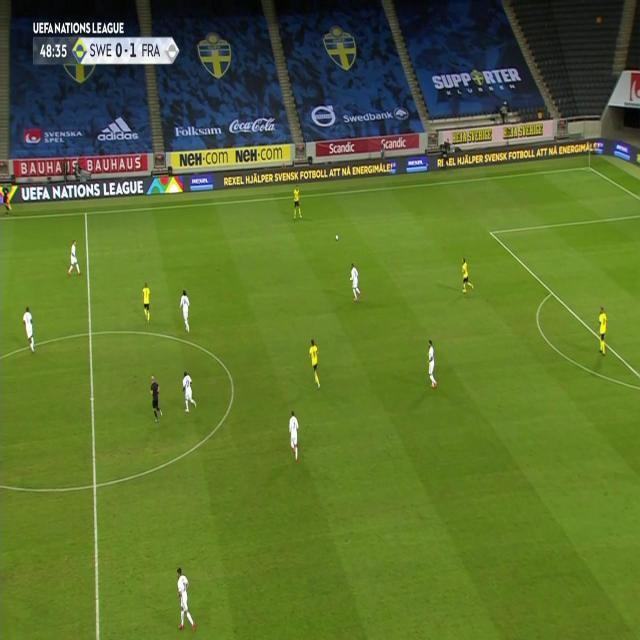ball: (335, 233, 339, 241)
player: (173, 566, 196, 630), (306, 337, 322, 388), (148, 374, 164, 424), (286, 408, 300, 462), (21, 306, 37, 353), (181, 369, 198, 412), (424, 338, 438, 389), (596, 304, 609, 356), (458, 255, 474, 294), (178, 290, 192, 333), (348, 263, 362, 301), (67, 238, 81, 276), (140, 281, 152, 322), (291, 183, 303, 219), (1, 185, 13, 213)
